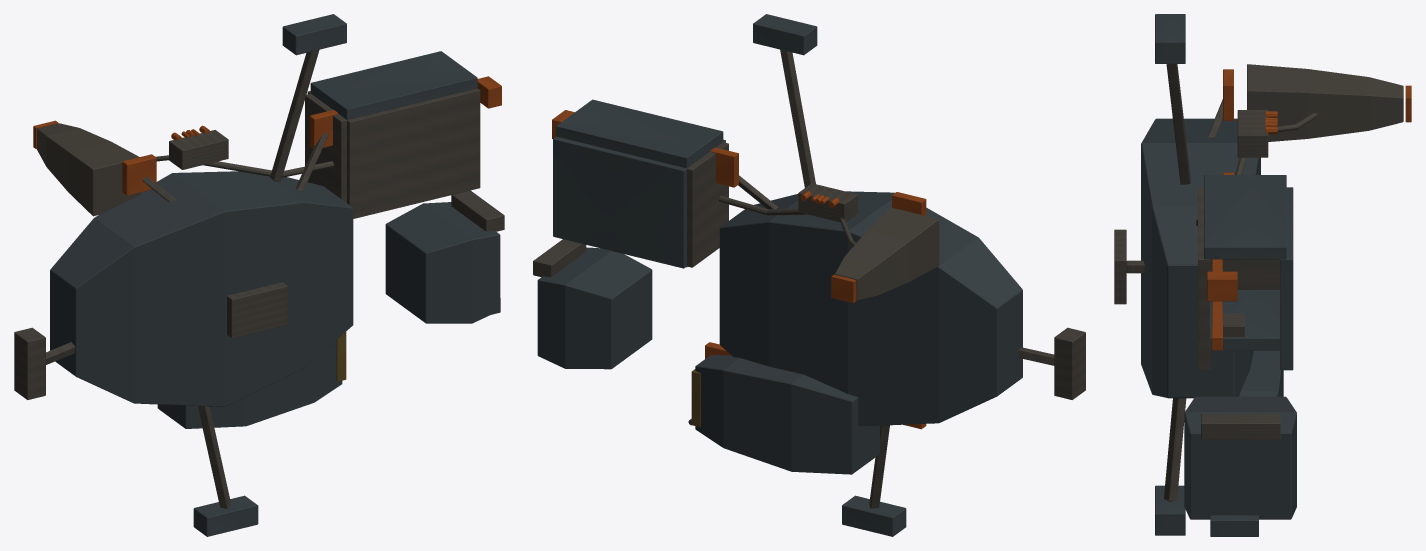
Rendered from place_claim_outpost_refinery.glb.
3 renders of one model, left to right at view 1: azimuth 30°, elevation 25°; view 2: azimuth 150°, elevation 25°; view 3: azimuth 270°, elevation 25°, orthographic. The views are drawn at different scales.
Visible parts, largest first — view 1: LOD0_Station_Material_Hull, LOD1_Station_Material_Hull, LOD2_Station_Material_Mechanical, LOD0_Station_Material_Mechanical, LOD1_Station_Material_Mechanical, LOD2_Station_Material_Hull, LOD0_Station_Material_Warm, LOD2_Station_Material_Warm, LOD1_Station_Material_Warm; view 2: LOD0_Station_Material_Hull, LOD1_Station_Material_Hull, LOD2_Station_Material_Hull, LOD0_Station_Material_Mechanical, LOD2_Station_Material_Mechanical, LOD1_Station_Material_Mechanical, LOD0_Station_Material_Warm, LOD2_Station_Material_Warm, LOD1_Station_Material_Warm; view 3: LOD0_Station_Material_Hull, LOD1_Station_Material_Hull, LOD0_Station_Material_Mechanical, LOD2_Station_Material_Hull, LOD1_Station_Material_Mechanical, LOD2_Station_Material_Mechanical, LOD0_Station_Material_Warm, LOD1_Station_Material_Warm, LOD2_Station_Material_Warm.
Part boxes in pixels (x1,y1,x2,y2): LOD0_Station_Material_Hull: [50, 14, 499, 535]; LOD1_Station_Material_Hull: [50, 14, 500, 536]; LOD2_Station_Material_Mechanical: [14, 49, 504, 508]; LOD0_Station_Material_Mechanical: [14, 92, 503, 398]; LOD1_Station_Material_Mechanical: [14, 90, 504, 399]; LOD2_Station_Material_Hull: [50, 14, 500, 536]; LOD0_Station_Material_Warm: [33, 77, 501, 194]; LOD2_Station_Material_Warm: [33, 76, 501, 195]; LOD1_Station_Material_Warm: [34, 82, 501, 194]; LOD0_Station_Material_Hull: [538, 15, 1022, 535]; LOD1_Station_Material_Hull: [538, 14, 1022, 536]; LOD2_Station_Material_Hull: [537, 14, 1022, 536]; LOD0_Station_Material_Mechanical: [534, 141, 1080, 423]; LOD2_Station_Material_Mechanical: [533, 49, 1085, 508]; LOD1_Station_Material_Mechanical: [533, 139, 1084, 424]; LOD0_Station_Material_Warm: [552, 110, 924, 357]; LOD2_Station_Material_Warm: [552, 110, 926, 429]; LOD1_Station_Material_Warm: [552, 110, 925, 428]; LOD0_Station_Material_Hull: [1141, 14, 1296, 535]; LOD1_Station_Material_Hull: [1141, 14, 1296, 536]; LOD0_Station_Material_Mechanical: [1115, 65, 1402, 438]; LOD2_Station_Material_Hull: [1141, 14, 1296, 536]; LOD1_Station_Material_Mechanical: [1114, 65, 1402, 439]; LOD2_Station_Material_Mechanical: [1114, 64, 1403, 501]; LOD0_Station_Material_Warm: [1208, 69, 1410, 349]; LOD1_Station_Material_Warm: [1208, 69, 1411, 349]; LOD2_Station_Material_Warm: [1207, 69, 1411, 350].
Size of what is drawn, in the model's own units: 106 by 97.89 by 48.6.
5 materials, 5 textured.
